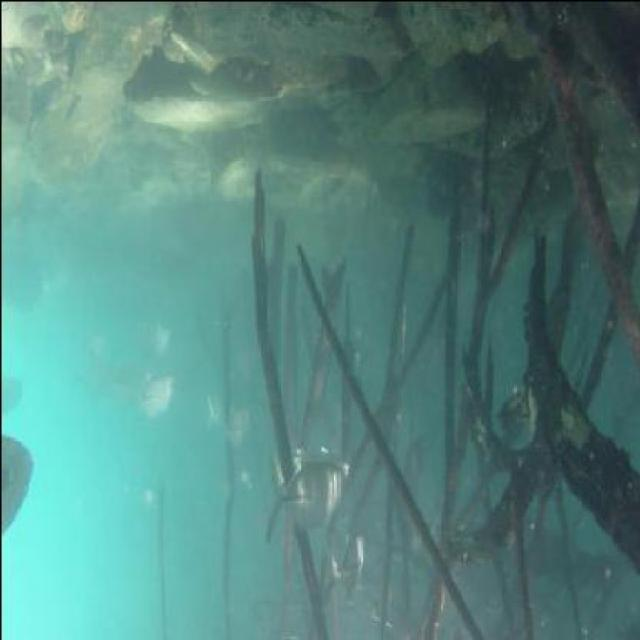Caranx_sexfasciatus_juvenile: (257, 442, 345, 540), (0, 423, 34, 535), (322, 522, 368, 603), (55, 349, 118, 405), (108, 338, 149, 413), (219, 388, 258, 452), (137, 368, 178, 424), (0, 369, 32, 430), (147, 314, 178, 364), (200, 369, 226, 425)
